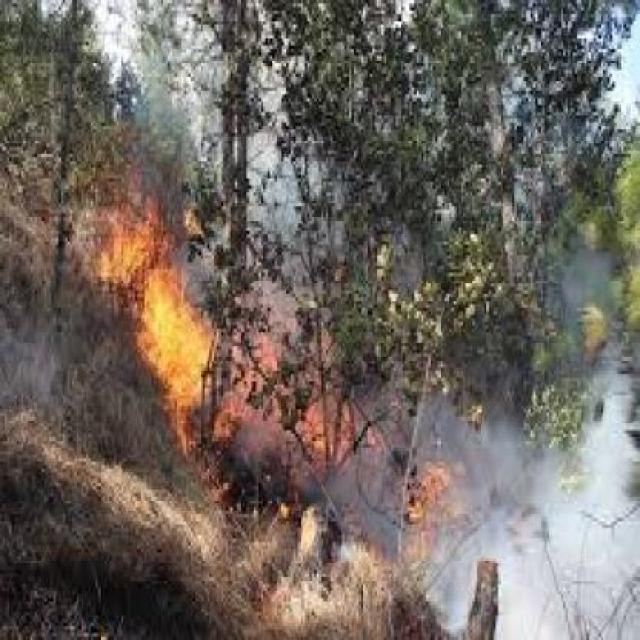Fire: (89, 229, 292, 489)
Smoke: (376, 0, 640, 640)
